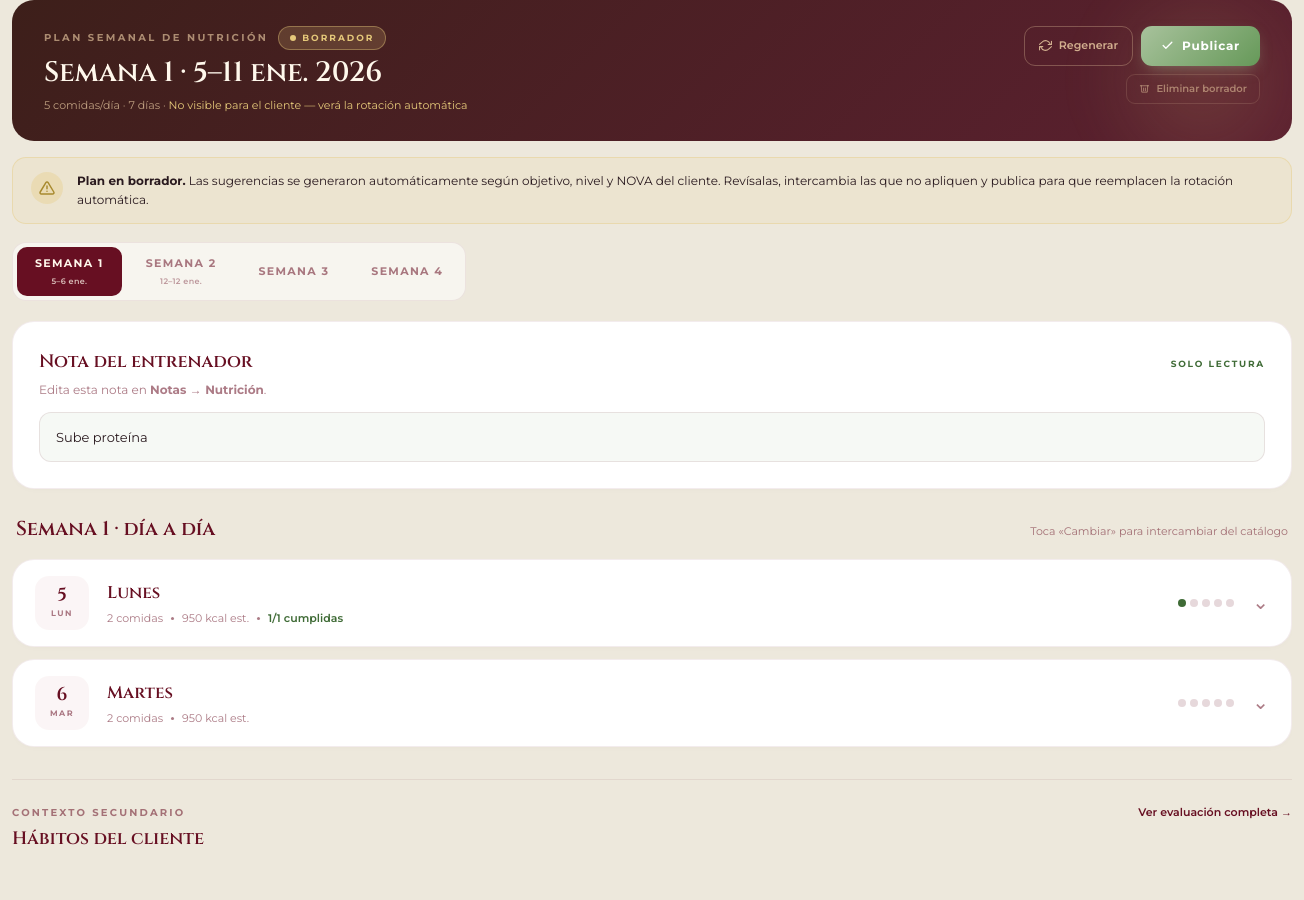
Test case: ClientNutritionTab › renders the completed log status label for a meal entry
Expected: the text "Borrador" is shown, [278,26,386,50]
What coordinates should you click on to do the following:
click the 1st text "2 comidas"
I would click on:
 (135, 619)
Its box is [107,610,163,628].
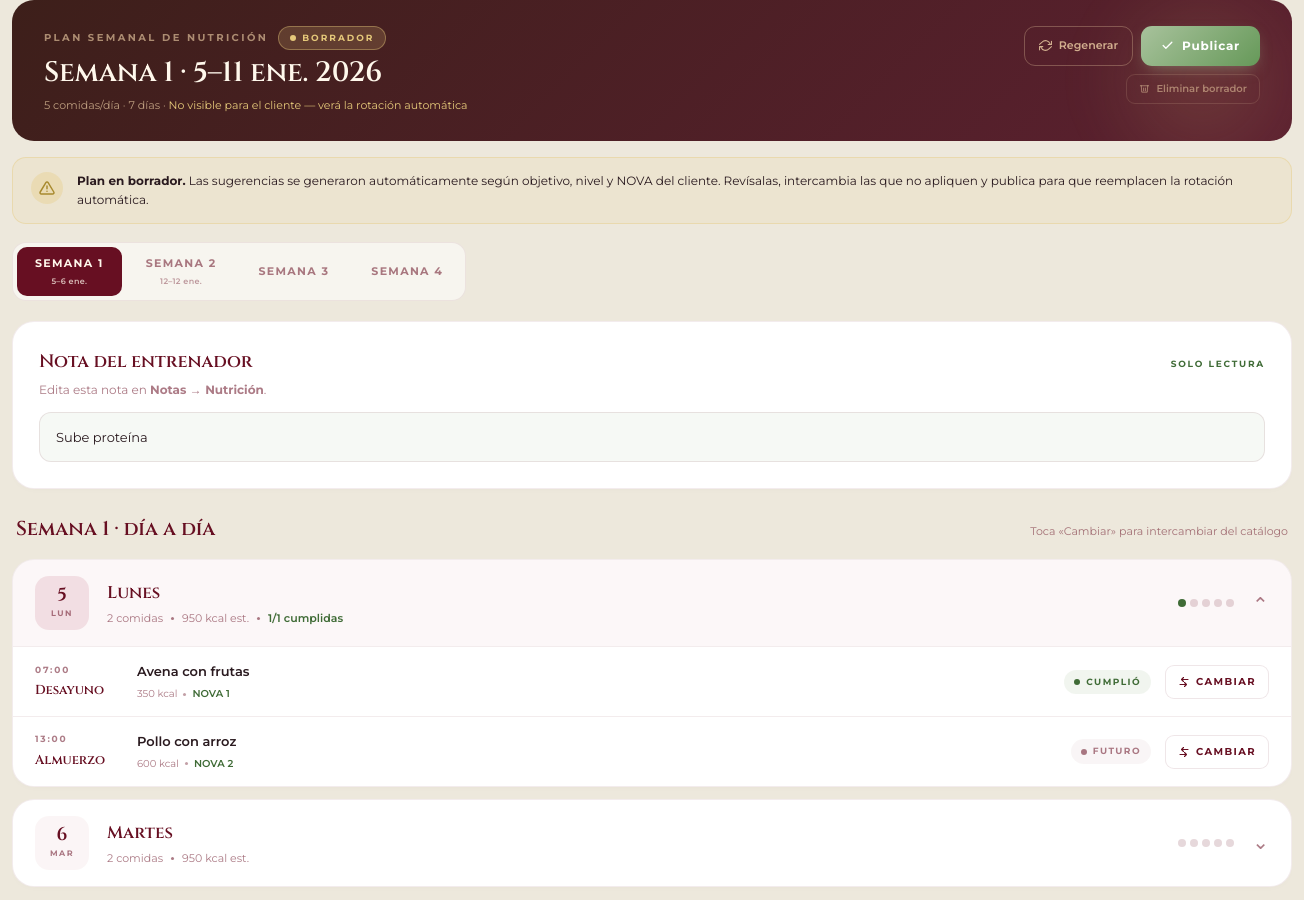
Expected: the text "Cumplió" is shown, [1064,670,1151,694]
